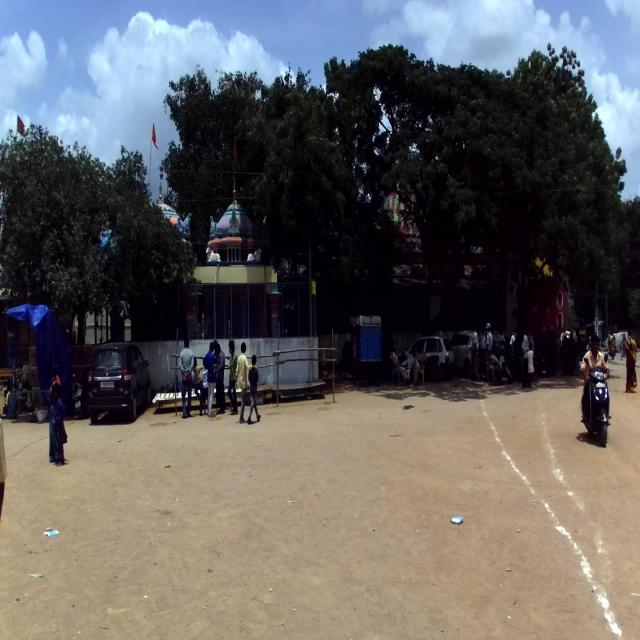car: (86, 341, 151, 423), (401, 336, 457, 382)
scooter: (580, 353, 610, 446)
